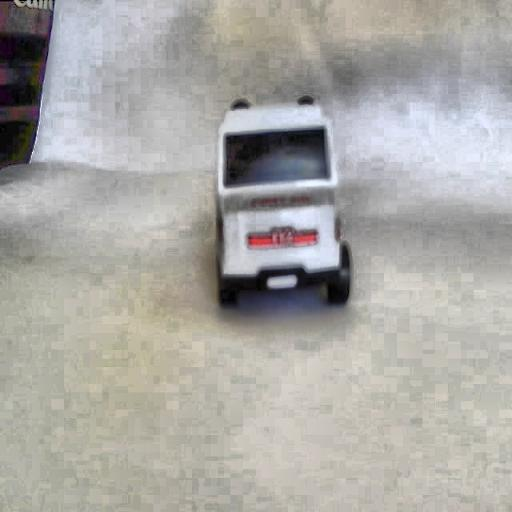ambulance: (214, 96, 352, 307)
